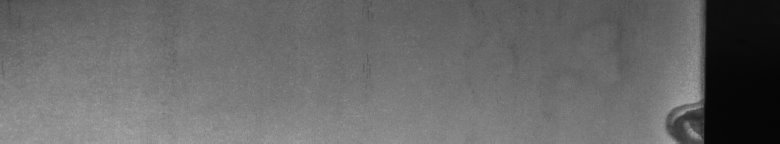hb: (660, 96, 692, 136)
